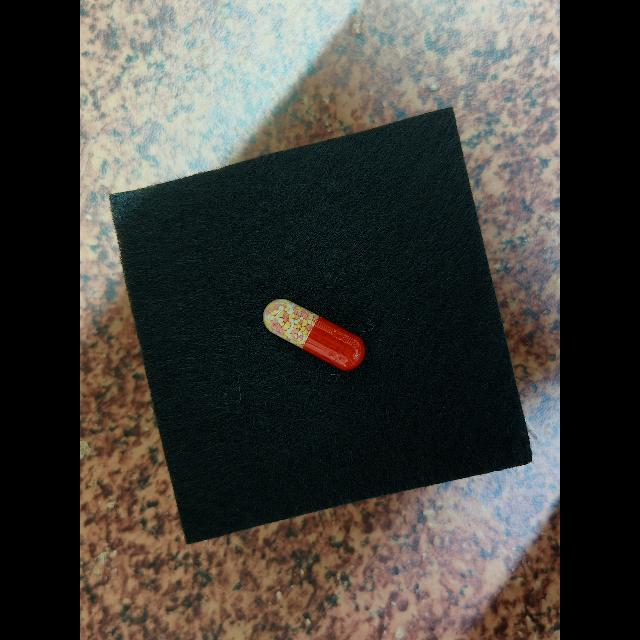Intact Capsule: (263, 299, 365, 371)
